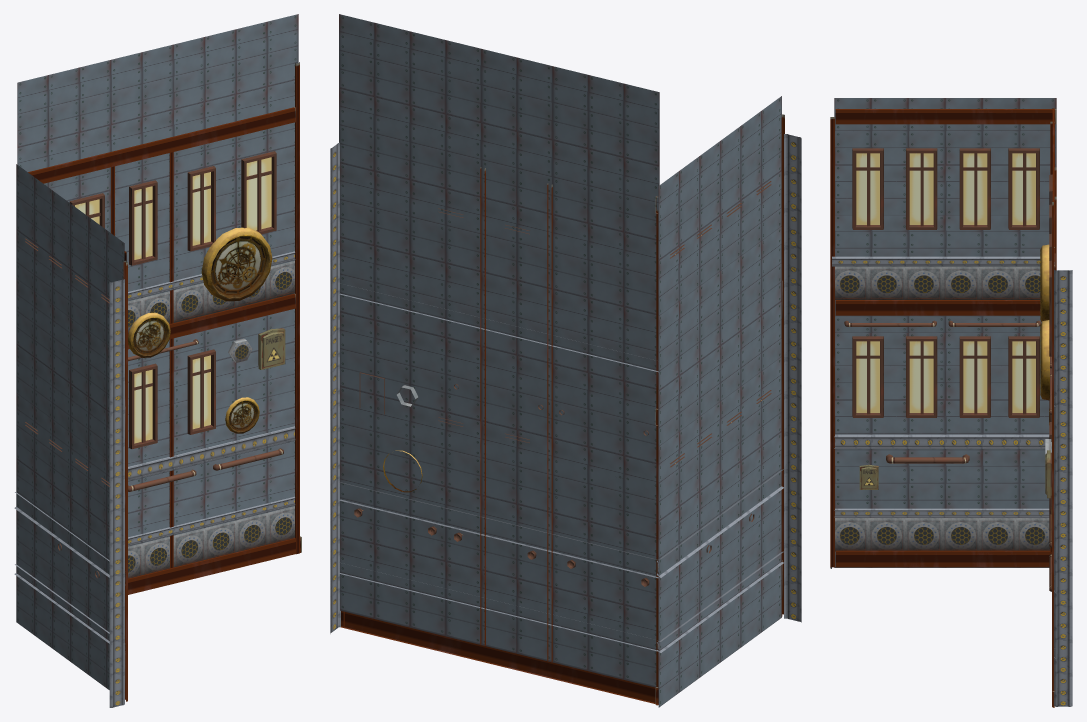
Rendered from normal6.fbx.
The picture shows the model from 3 angles, left to right: view 1: azimuth 30°, elevation 25°; view 2: azimuth 150°, elevation 25°; view 3: azimuth 270°, elevation 25°; orthographic projection. The views are drawn at different scales.
Parts seen in each view (by area): view 1: Wall(4x4).001; view 2: Wall(4x4).001; view 3: Wall(4x4).001.
Part boxes in pixels (left/top/right/bottom): Wall(4x4).001: left=14, top=14, right=301, bottom=707; Wall(4x4).001: left=330, top=14, right=801, bottom=707; Wall(4x4).001: left=830, top=98, right=1072, bottom=707.
Size of the model in its own units: 3834 by 6619 by 2617.
